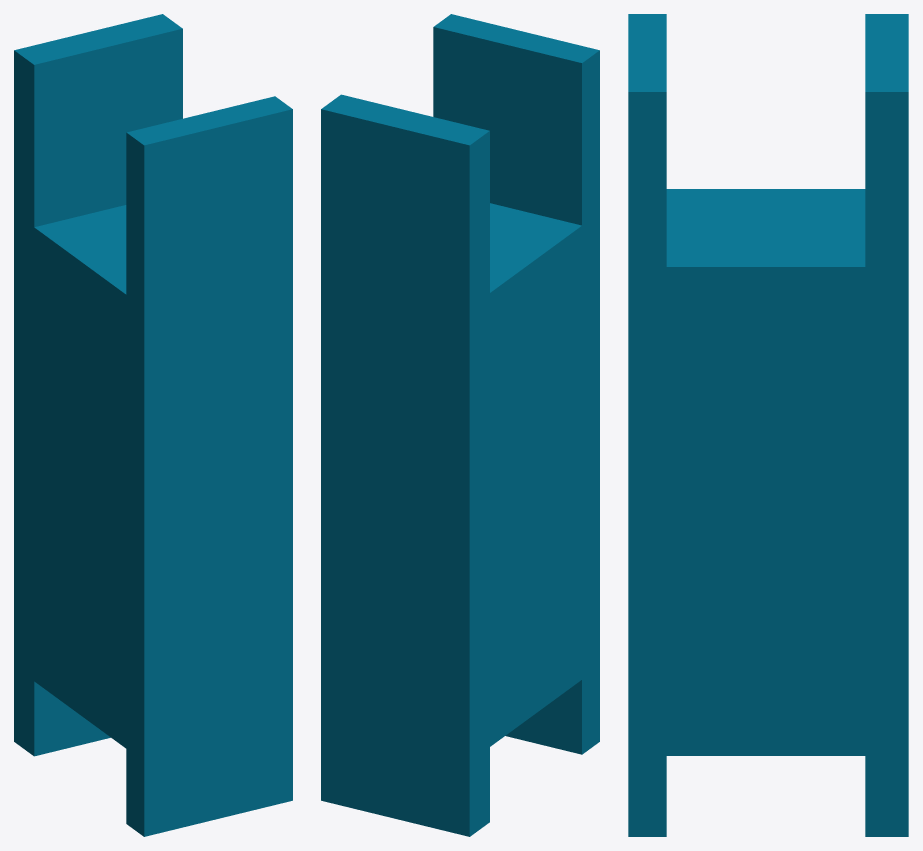
The model's file is robot_addupperarm.obj.
3 views of the same model, side by side, from view 1: azimuth 30°, elevation 25°; view 2: azimuth 150°, elevation 25°; view 3: azimuth 270°, elevation 25° (orthographic). The views are drawn at different scales.
Visible parts, largest first — view 1: Addupperarm; view 2: Addupperarm; view 3: Addupperarm.
Part boxes in pixels (left/top/right/bottom): Addupperarm: left=14, top=14, right=292, bottom=836; Addupperarm: left=321, top=14, right=599, bottom=836; Addupperarm: left=628, top=14, right=908, bottom=836.
Bounding box in the file's own units: 2 × 8.89 × 3.03.
